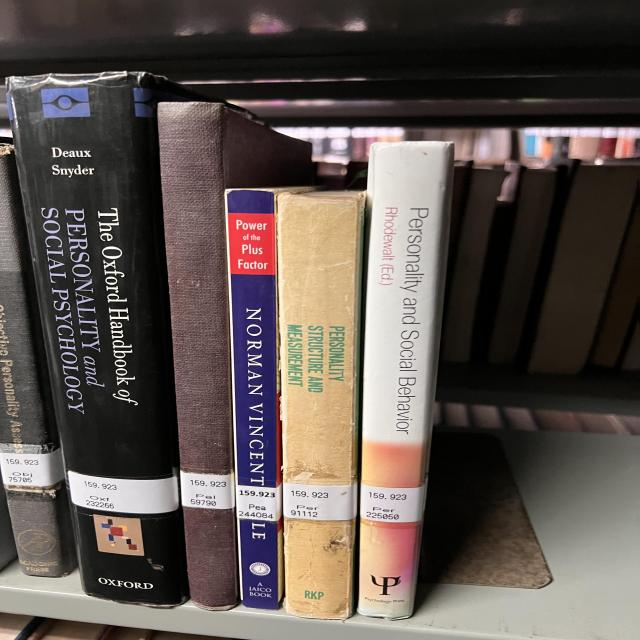Book: (8, 71, 205, 606), (158, 102, 313, 610), (358, 141, 453, 619), (278, 191, 365, 619), (227, 188, 307, 609)
Label: (67, 471, 180, 514), (283, 482, 357, 521), (360, 484, 425, 522), (180, 471, 235, 509), (235, 485, 282, 521)
